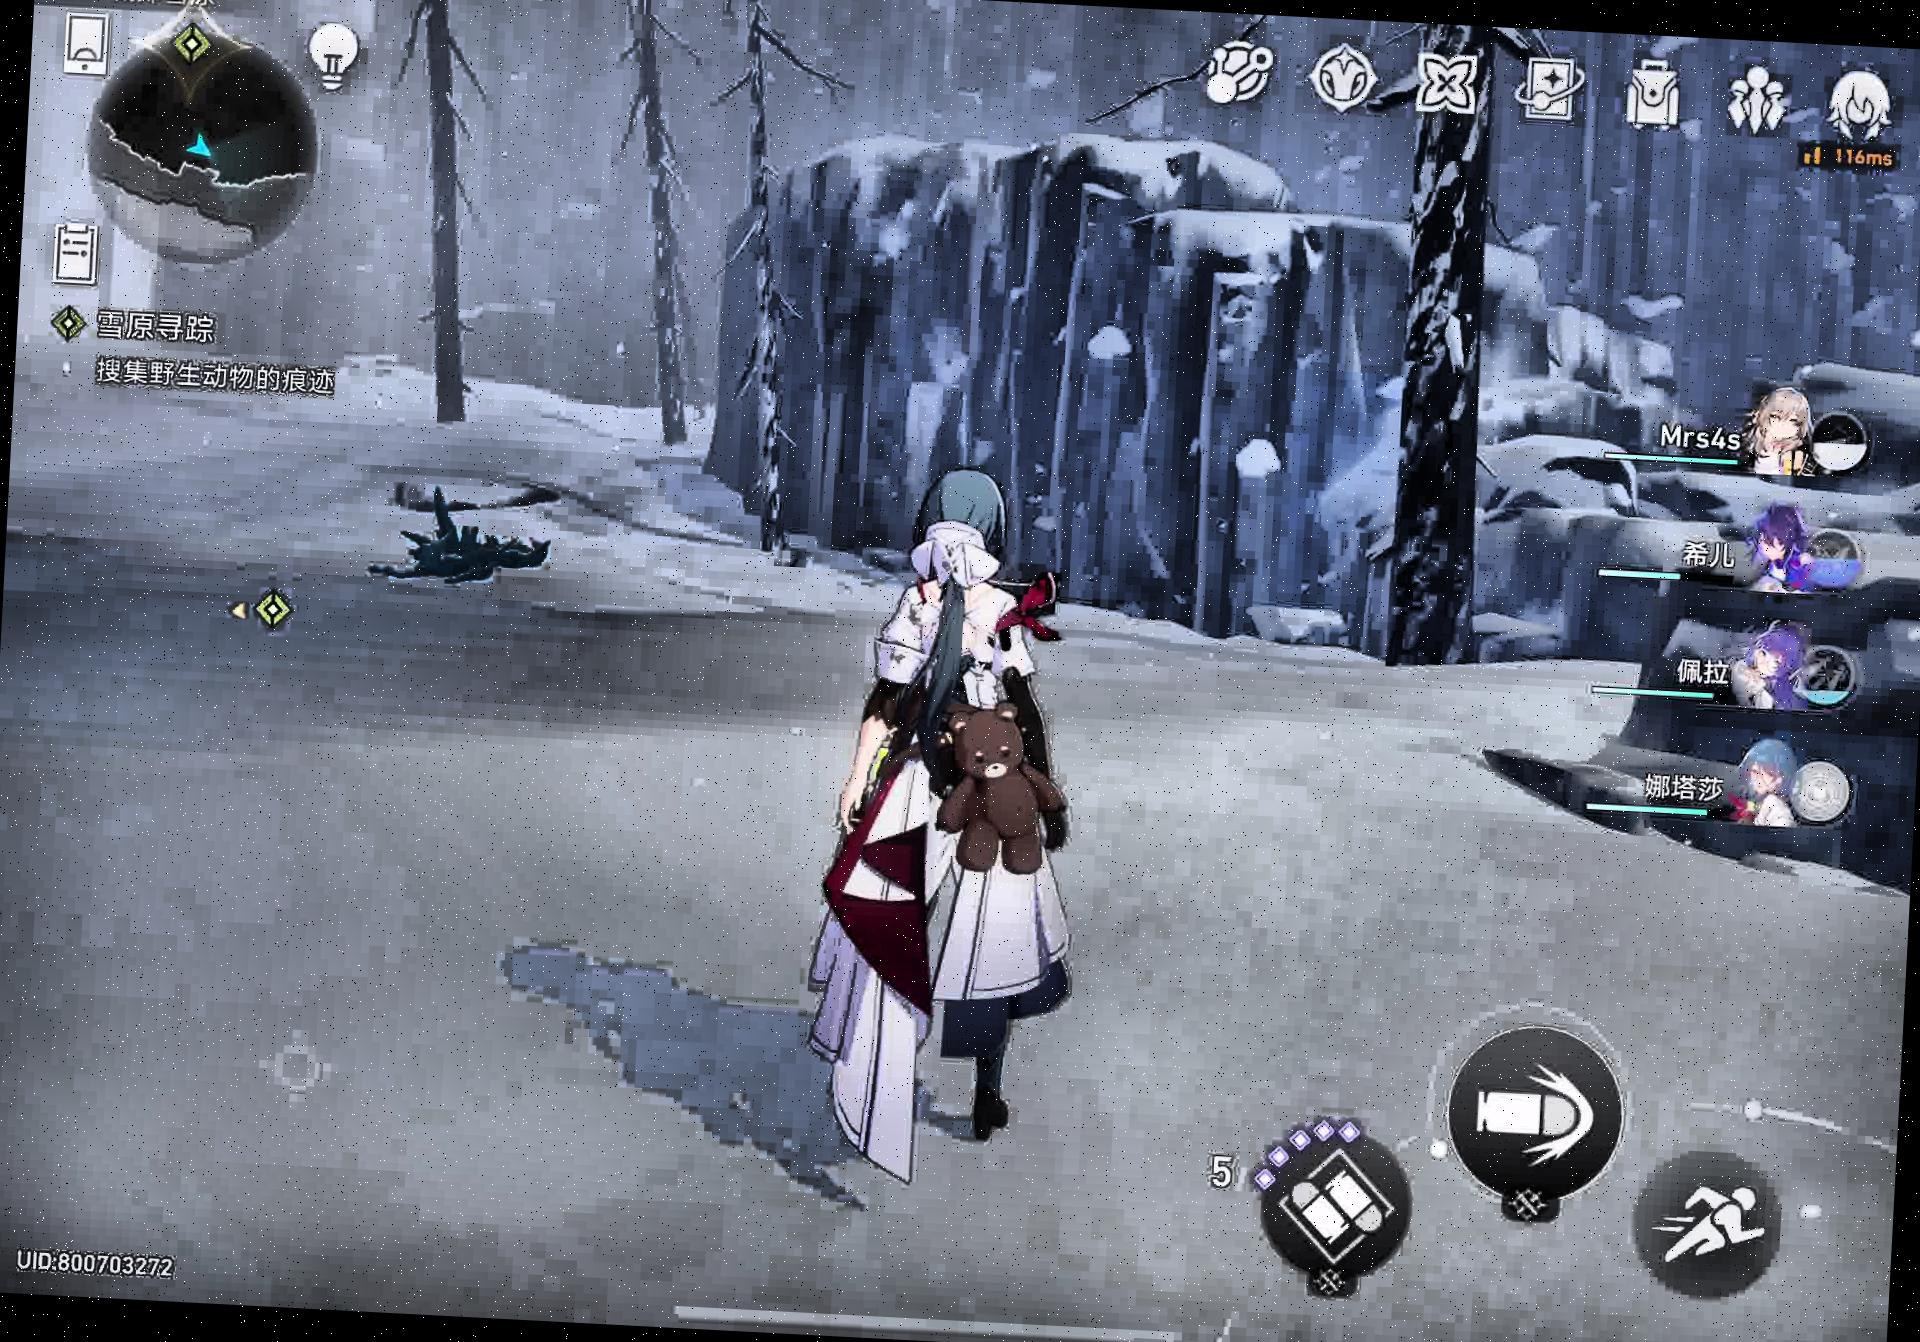Self: (795, 457, 1107, 1198)
